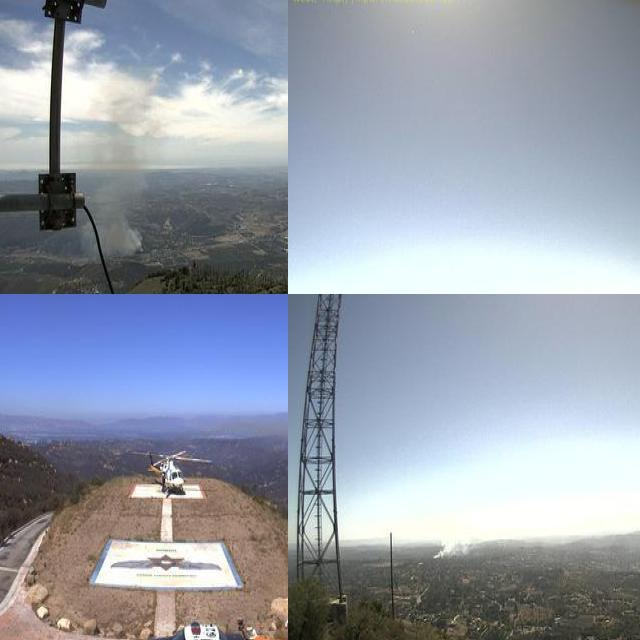smoke: (79, 85, 140, 256), (429, 526, 476, 559)
